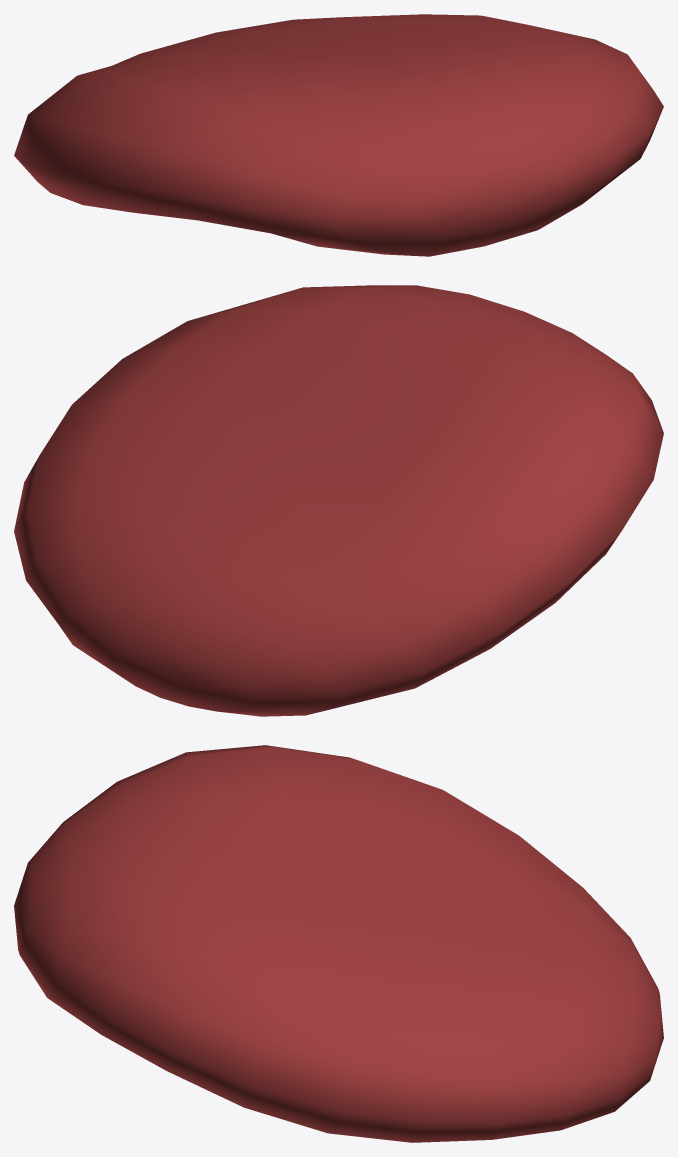
File: subacromial-bursa-r.glb
The picture shows the model from 3 angles, top to bottom: view 1: azimuth 30°, elevation 25°; view 2: azimuth 150°, elevation 25°; view 3: azimuth 270°, elevation 25°; orthographic projection.
Parts seen in each view (by area): view 1: Subacromial bursa.r; view 2: Subacromial bursa.r; view 3: Subacromial bursa.r.
Part boxes in pixels (x1,y1,x2,y2): Subacromial bursa.r: [14, 14, 663, 256]; Subacromial bursa.r: [14, 285, 663, 716]; Subacromial bursa.r: [14, 745, 663, 1142].
Bounding box in the file's own units: 0.024 × 0.00949 × 0.0234.
